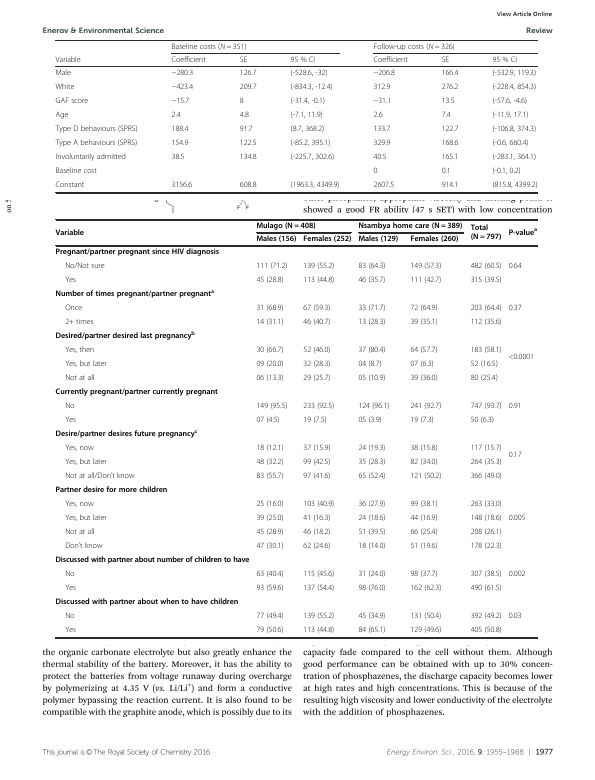borderless: (54, 218, 537, 637), (54, 38, 537, 192)
cell: (55, 556, 250, 566), (55, 598, 239, 608), (55, 289, 215, 300), (55, 248, 220, 258), (55, 388, 219, 398), (55, 429, 198, 440), (55, 331, 196, 342), (55, 486, 168, 496), (357, 222, 463, 231), (54, 124, 138, 134), (54, 138, 138, 148), (372, 42, 456, 51), (54, 152, 127, 162), (171, 42, 247, 51), (64, 472, 136, 481), (470, 224, 502, 242), (255, 222, 316, 231), (302, 235, 352, 245), (409, 235, 459, 245), (290, 180, 340, 190), (491, 180, 538, 190), (491, 68, 537, 78), (491, 82, 537, 92), (491, 124, 537, 134), (491, 152, 537, 162), (290, 152, 335, 162), (54, 166, 98, 176), (290, 82, 333, 92), (255, 235, 297, 245), (357, 235, 399, 245), (290, 138, 331, 148), (64, 360, 108, 369), (64, 458, 108, 467), (64, 514, 108, 523), (290, 68, 328, 78), (491, 110, 529, 120), (491, 138, 529, 148), (372, 55, 409, 65), (491, 96, 528, 106), (64, 262, 105, 271), (171, 55, 207, 65), (290, 96, 326, 106), (64, 542, 103, 551), (54, 96, 89, 106), (290, 124, 325, 134), (290, 110, 324, 120), (508, 227, 538, 238), (491, 166, 522, 176), (54, 180, 85, 190), (55, 228, 85, 238), (255, 262, 288, 271), (302, 262, 335, 271), (409, 262, 442, 271), (302, 276, 335, 285), (409, 276, 442, 285), (255, 402, 288, 411), (302, 402, 335, 411), (357, 402, 390, 411), (409, 402, 442, 411), (409, 472, 442, 481), (302, 500, 335, 509), (302, 570, 335, 579), (302, 584, 335, 593), (409, 584, 442, 593), (302, 612, 335, 621), (409, 612, 442, 621), (302, 626, 335, 635), (409, 626, 442, 635), (470, 262, 502, 271), (470, 276, 502, 285), (470, 304, 502, 313), (470, 318, 502, 327), (470, 346, 502, 355), (470, 402, 502, 411), (470, 444, 502, 453), (470, 458, 502, 467), (470, 472, 502, 481), (470, 500, 502, 509), (470, 514, 502, 523), (470, 528, 502, 537), (470, 542, 502, 551), (470, 570, 502, 579), (470, 584, 502, 593), (470, 612, 502, 621), (470, 626, 502, 635), (64, 346, 95, 355), (64, 374, 95, 383), (64, 444, 95, 453), (64, 500, 95, 509), (64, 528, 95, 537), (64, 318, 94, 327), (54, 55, 81, 65), (491, 55, 518, 65), (357, 262, 386, 271), (255, 276, 284, 285), (357, 276, 386, 285), (255, 304, 284, 313), (302, 304, 331, 313), (357, 304, 386, 313), (409, 304, 438, 313), (255, 318, 284, 327), (302, 318, 331, 327), (357, 318, 386, 327), (409, 318, 438, 327), (255, 346, 284, 355), (302, 346, 331, 355), (357, 346, 386, 355), (409, 346, 438, 355), (255, 360, 284, 369), (302, 360, 331, 369), (470, 360, 499, 369), (255, 374, 284, 383), (302, 374, 331, 383), (357, 374, 386, 383), (409, 374, 438, 383), (470, 374, 499, 383), (255, 444, 284, 453), (302, 444, 331, 453), (357, 444, 386, 453), (409, 444, 438, 453), (255, 458, 284, 467), (302, 458, 331, 467), (357, 458, 386, 467), (409, 458, 438, 467), (255, 472, 284, 481), (302, 472, 331, 481), (357, 472, 386, 481), (255, 500, 284, 509), (357, 500, 386, 509), (409, 500, 438, 509), (255, 514, 284, 523), (302, 514, 331, 523), (357, 514, 386, 523), (409, 514, 438, 523), (255, 528, 284, 537), (302, 528, 331, 537), (357, 528, 386, 537), (409, 528, 438, 537), (255, 542, 284, 551), (302, 542, 331, 551), (357, 542, 386, 551), (409, 542, 438, 551), (255, 570, 284, 579), (357, 570, 386, 579), (409, 570, 438, 579), (255, 584, 284, 593), (357, 584, 386, 593), (255, 612, 284, 621), (357, 612, 386, 621), (255, 626, 284, 635), (357, 626, 386, 635), (290, 55, 316, 65), (508, 353, 535, 362), (372, 68, 396, 78), (357, 360, 383, 369), (409, 360, 435, 369), (255, 416, 281, 425), (357, 416, 383, 425), (409, 416, 435, 425), (171, 68, 194, 78), (171, 82, 194, 92), (372, 180, 395, 190), (302, 416, 327, 425), (470, 416, 495, 425), (171, 180, 193, 190), (54, 82, 75, 92), (372, 96, 392, 106), (372, 82, 391, 92), (171, 96, 190, 106), (372, 124, 391, 134), (372, 138, 391, 148), (54, 68, 72, 78), (239, 68, 257, 78), (441, 68, 459, 78), (239, 82, 257, 92), (441, 82, 459, 92), (171, 124, 189, 134), (441, 124, 459, 134), (171, 138, 189, 148), (239, 138, 257, 148), (441, 138, 459, 148), (239, 152, 257, 162), (441, 152, 459, 162), (239, 180, 257, 190), (441, 180, 459, 190), (64, 304, 83, 313), (508, 514, 526, 523), (508, 570, 526, 579), (54, 110, 69, 120), (239, 124, 254, 134), (372, 152, 387, 162), (441, 96, 455, 106), (171, 152, 185, 162), (508, 262, 522, 271), (508, 304, 522, 313), (508, 402, 522, 411), (508, 451, 522, 460), (508, 612, 522, 621), (64, 276, 77, 285), (64, 416, 77, 425), (64, 584, 77, 593), (64, 626, 77, 635), (171, 110, 182, 120), (239, 110, 250, 120), (372, 110, 383, 120), (441, 110, 452, 120), (441, 166, 452, 176), (64, 402, 75, 411), (64, 570, 75, 579), (64, 612, 75, 621), (239, 55, 248, 65), (441, 55, 450, 65), (239, 96, 245, 106), (372, 166, 378, 176)
